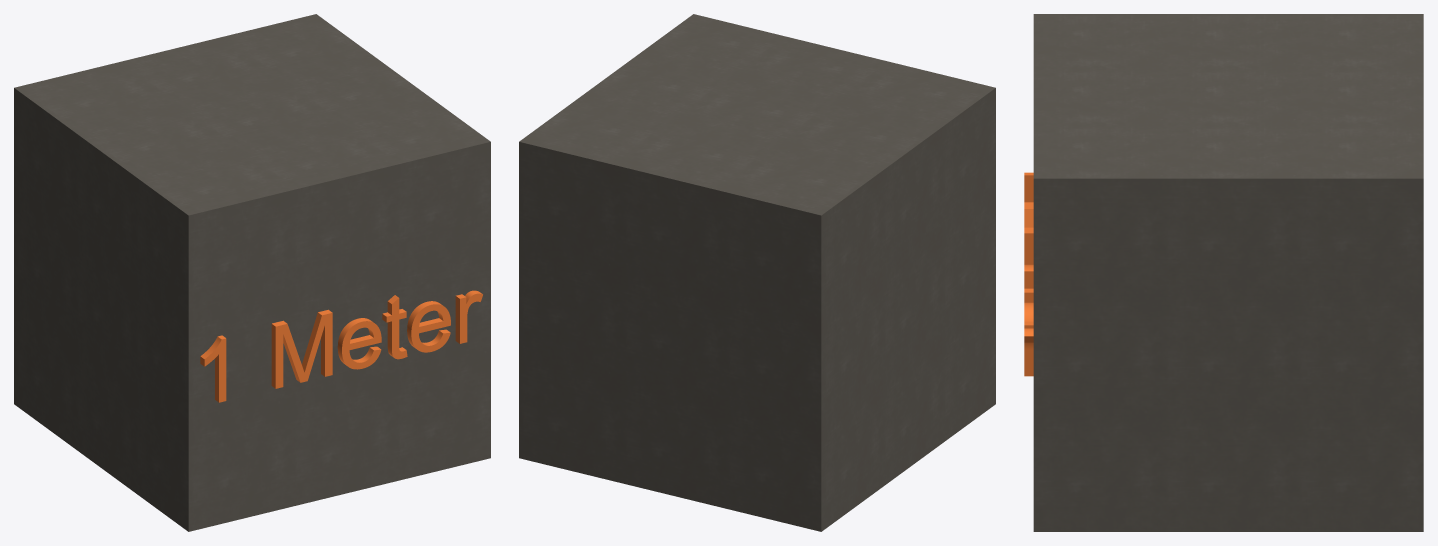
Rendered from MeterBox.glb.
3 renders of one model, left to right at view 1: azimuth 30°, elevation 25°; view 2: azimuth 150°, elevation 25°; view 3: azimuth 270°, elevation 25°, orthographic. The views are drawn at different scales.
Visible parts, largest first — view 1: MeterBox; view 2: MeterBox; view 3: MeterBox.
Boxes of the visible parts, <box> form: MeterBox: <box>14,14,490,531</box>; MeterBox: <box>519,14,995,531</box>; MeterBox: <box>1024,14,1423,531</box>.
Bounding box in the file's own units: 1 × 1 × 1.02.
1 material, 1 textured.
